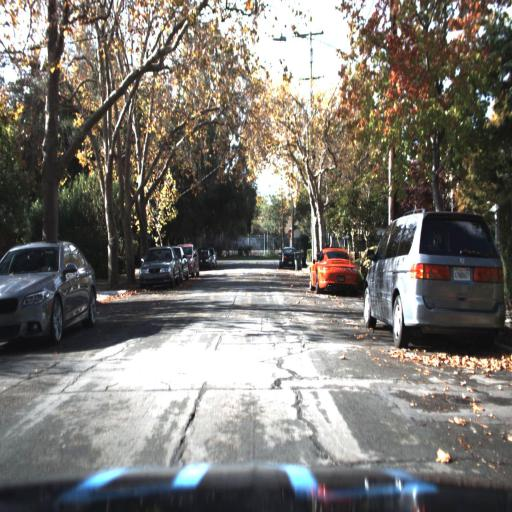car: (357, 207, 511, 359), (362, 204, 508, 345), (0, 236, 93, 339), (308, 244, 363, 291), (138, 245, 181, 288), (188, 246, 199, 281), (178, 247, 188, 283)
